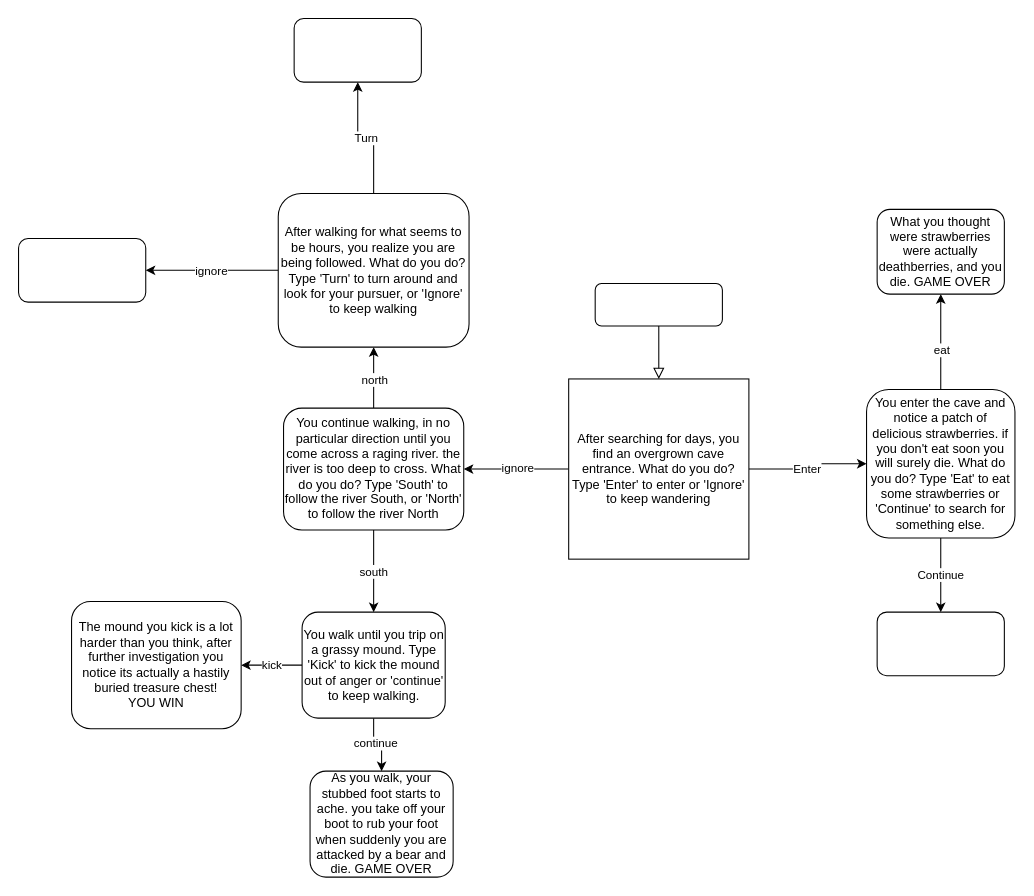
This 1034x896 diagram has some shape labels left out. Each missing label, with the box of its shape:
After searching the cave for hours, you get lost and starve to death. GAME OVER: (876, 611, 1004, 676)
You are shot in the back of the head with an arrow and die. GAME OVER: (17, 237, 146, 302)
You are shot in the face with an arrow and die. GAME OVER: (293, 17, 421, 82)
your mission is to find the treasure!: (594, 282, 722, 326)
